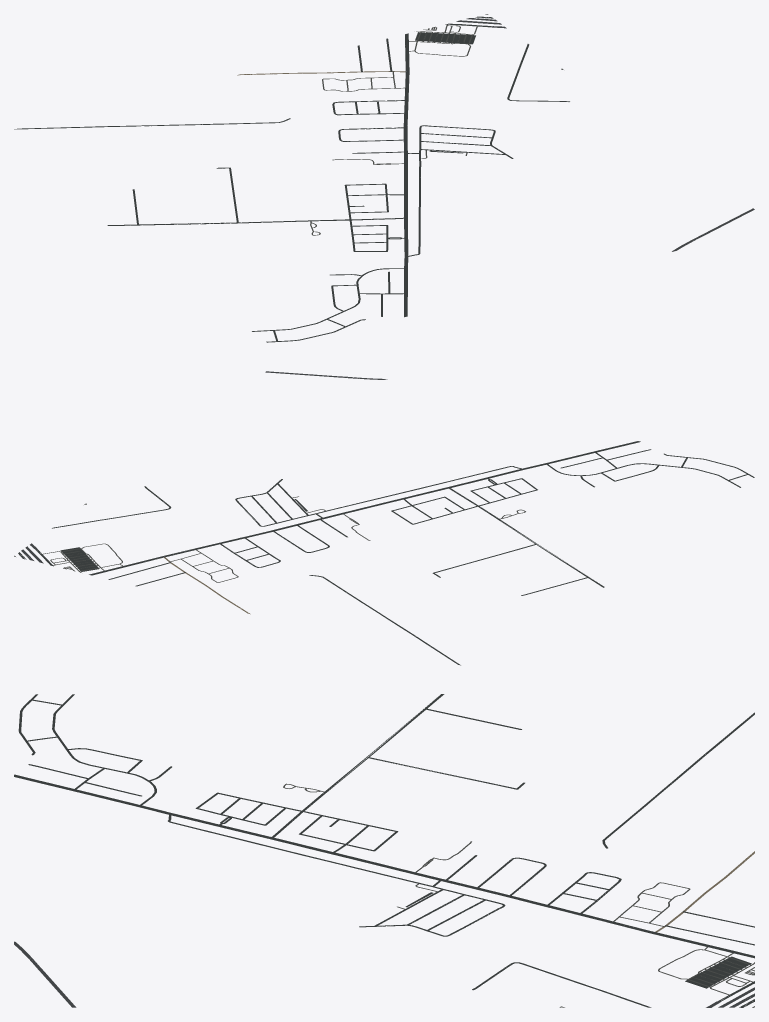
Rendered from Roads.glb.
3 renders of one model, top to bottom at view 1: azimuth 30°, elevation 25°; view 2: azimuth 150°, elevation 25°; view 3: azimuth 270°, elevation 25°, orthographic. The views are drawn at different scales.
Visible parts, largest first — view 1: Roads; view 2: Roads; view 3: Roads.
Part boxes in pixels (x1,y1,x2,y2): Roads: (14, 14, 754, 342); Roads: (14, 371, 754, 665); Roads: (14, 694, 754, 1007).
Size of the model in its own units: 2000 by 2.48 by 2000.
